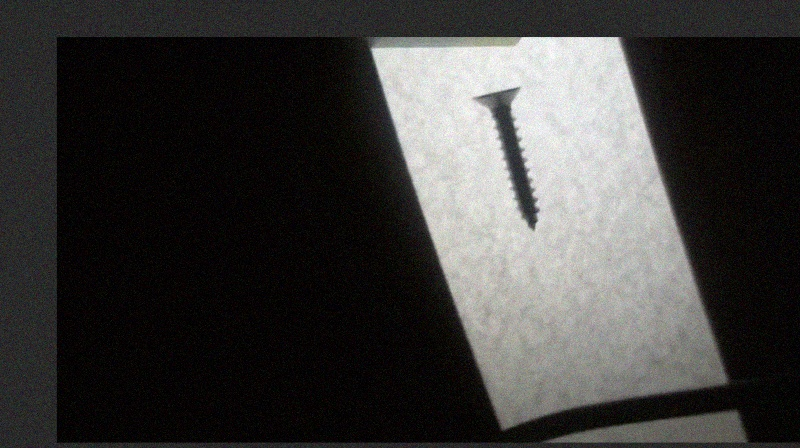S001: (469, 82, 543, 233)
